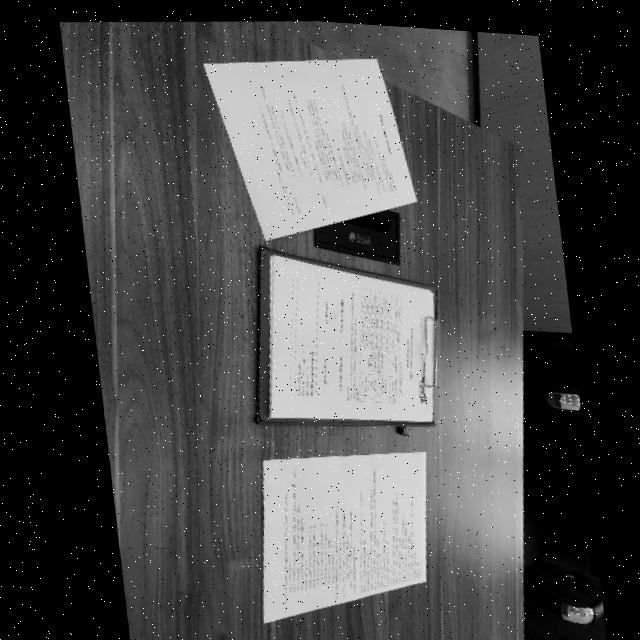document: (204, 59, 416, 240), (263, 451, 426, 623), (269, 254, 433, 422)
